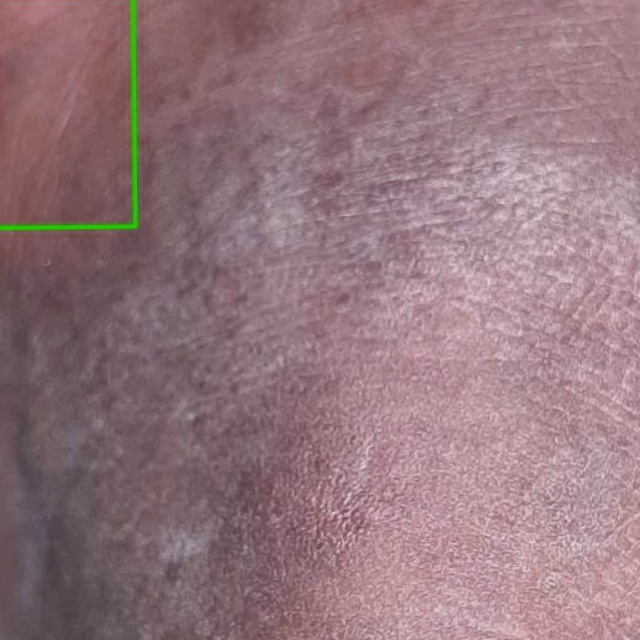Contact Dermatitis: (0, 0, 135, 228)
